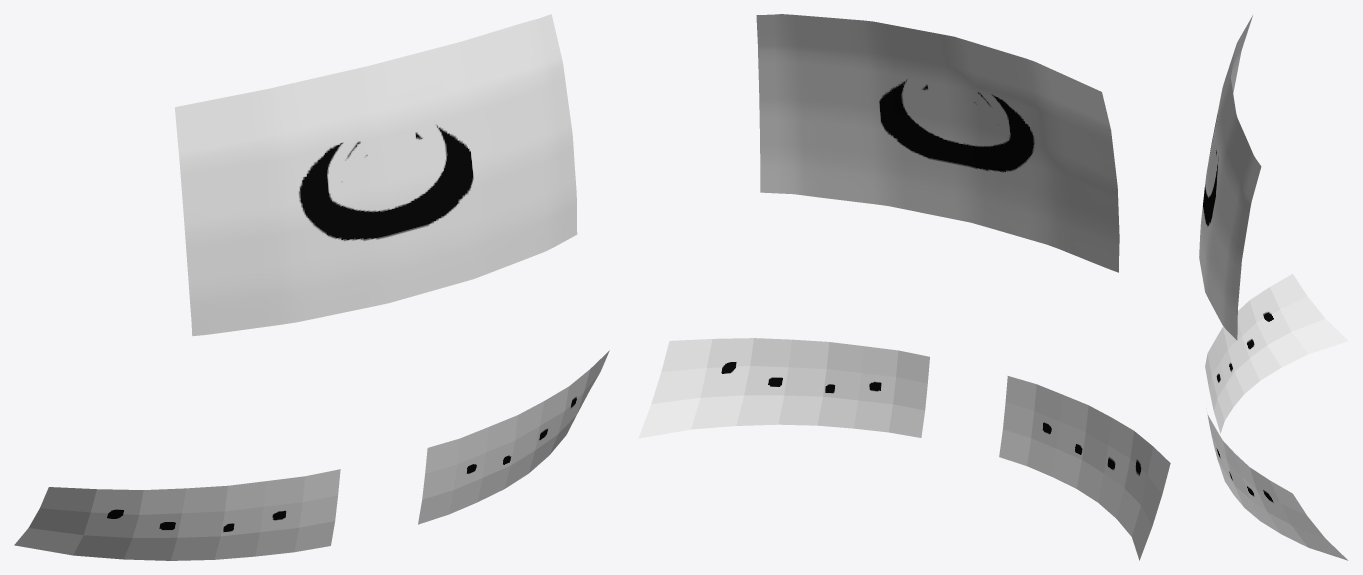
File: Crescent.glb
3 views of the same model, side by side, from view 1: azimuth 30°, elevation 25°; view 2: azimuth 150°, elevation 25°; view 3: azimuth 270°, elevation 25° (orthographic). The views are drawn at different scales.
Parts seen in each view (by area): view 1: Crescent; view 2: Crescent; view 3: Crescent.
Part boxes in pixels (x1,y1,x2,y2): Crescent: [14, 14, 609, 560]; Crescent: [638, 14, 1170, 560]; Crescent: [1199, 15, 1348, 560].
Bounding box in the file's own units: 0.5545 × 0.4388 × 0.1596.
1 material, 1 textured.
